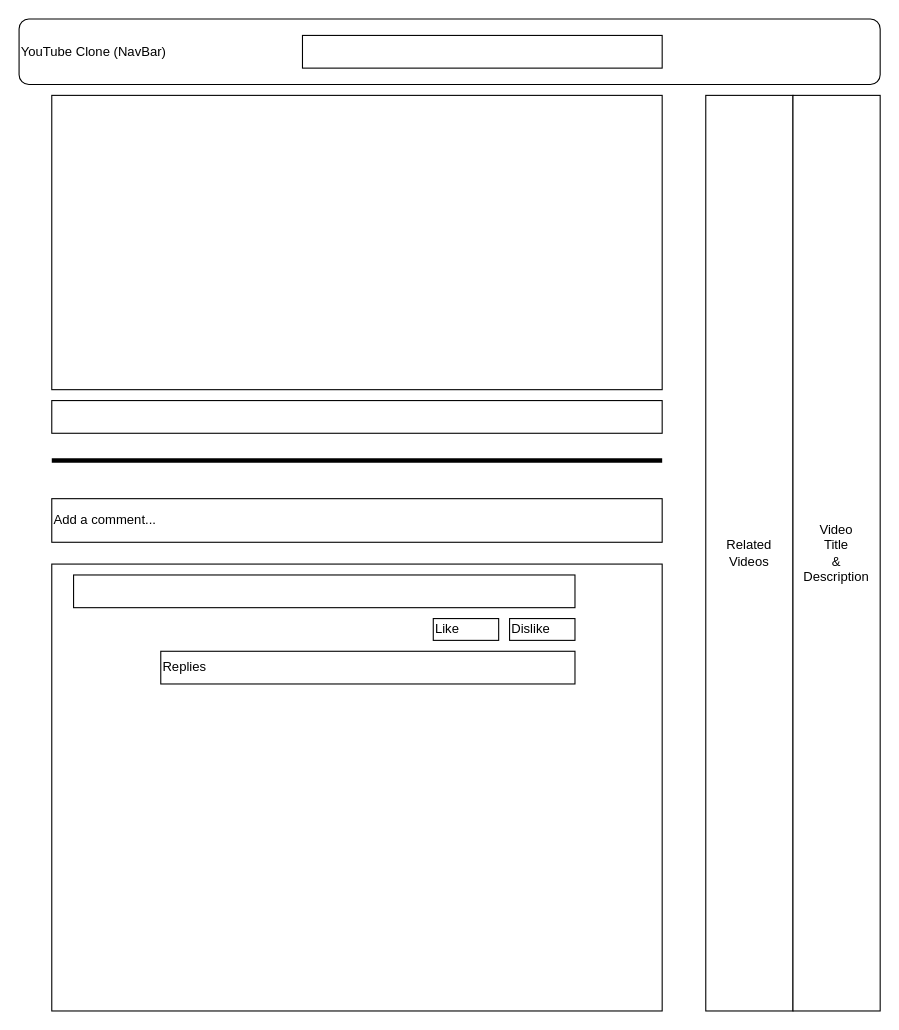
This 899x1030 diagram has some shape labels left out. The shapes that lost their labels are listed below. From the top down, each one's centre as x and y in pixels, then its label:
At point (481, 51): "Search".
At point (356, 242): "Video".
At point (356, 416): "Description".
At point (323, 591): "Comments".
